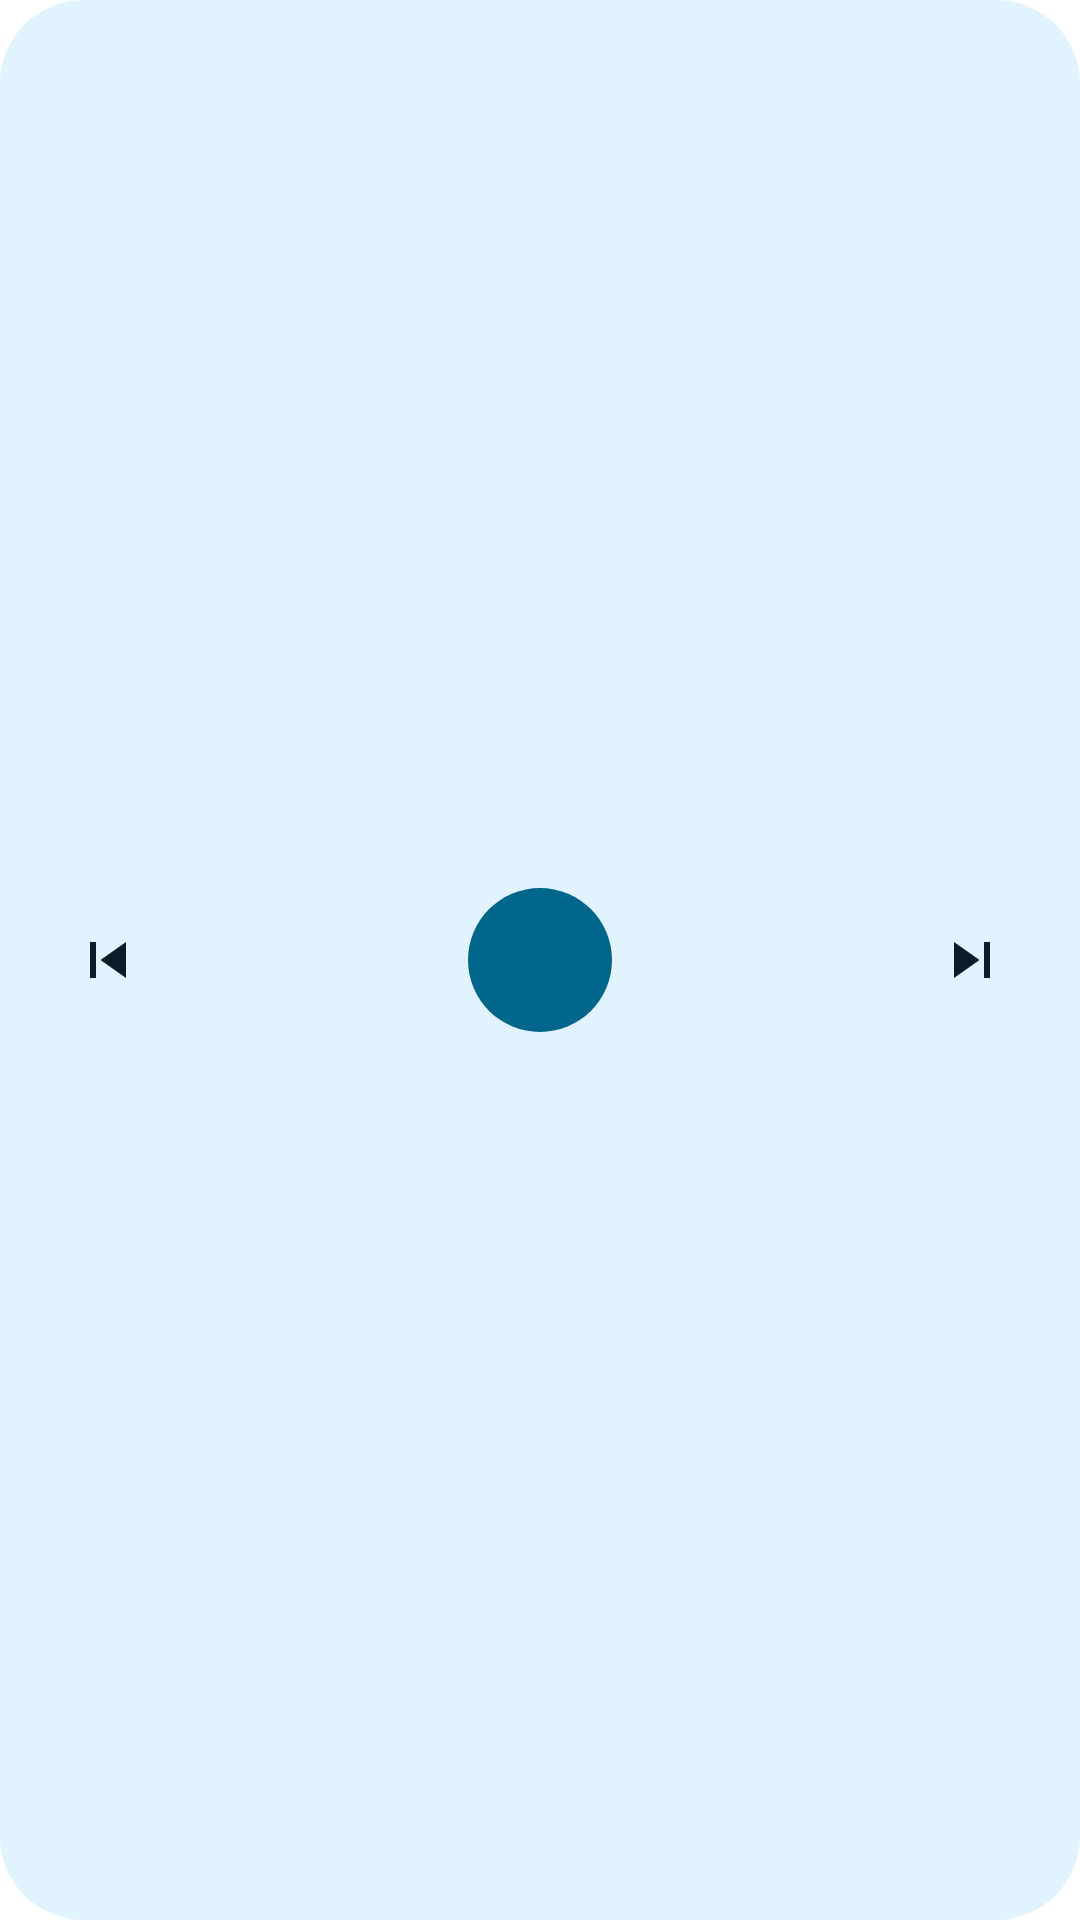

Where icons sit on this 1080 x 1920 app screen, as (x1, y1, x2, y2):
Next: (954, 942, 990, 978)
Previous: (90, 942, 126, 978)
